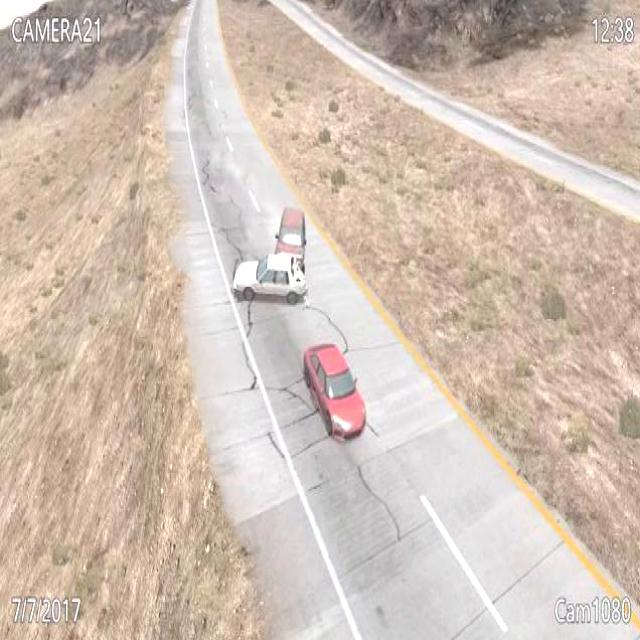accident: (230, 201, 310, 306)
